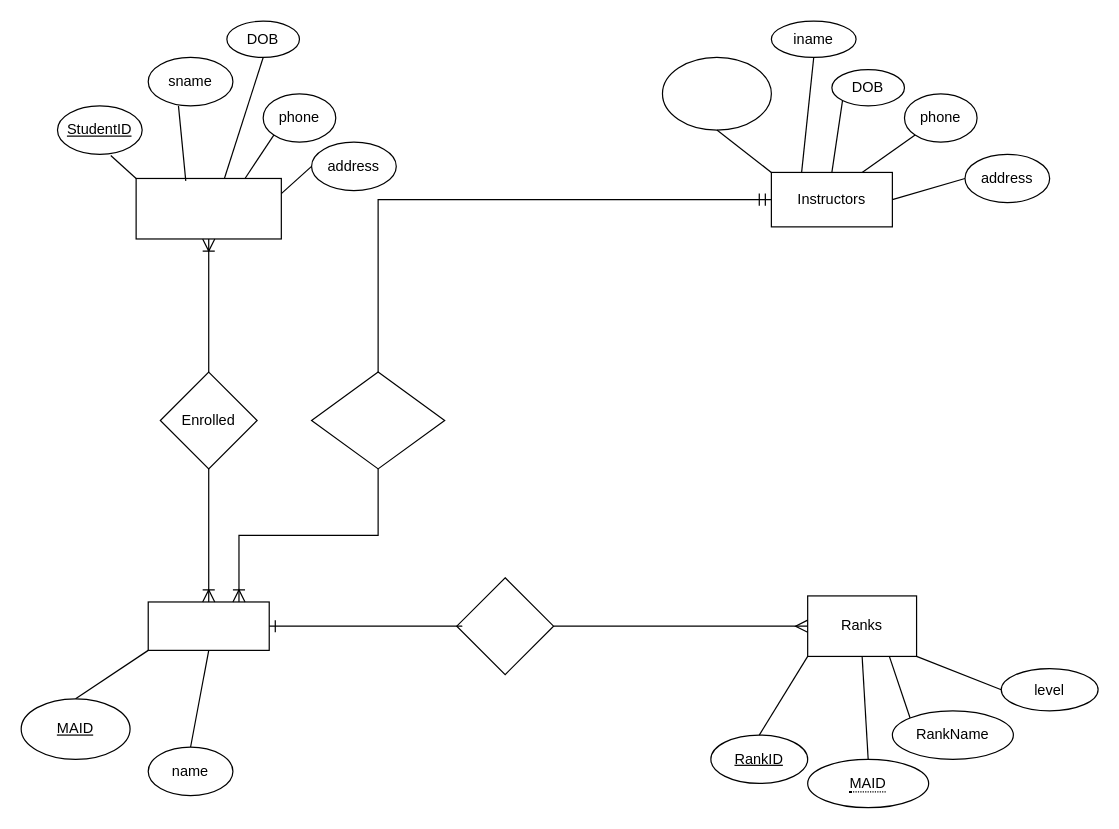
The diagram is 1119 pixels wide and 829 high, and some of its shapes have lost their labels. Here are the shapes that lost their labels. From the top down, the centre of each, then its label:
At (x=716, y=93): "InstructorID".
At (x=208, y=208): "Students".
At (x=377, y=420): "Teaches".
At (x=208, y=625): "MartialArts".
At (x=505, y=626): "has".
